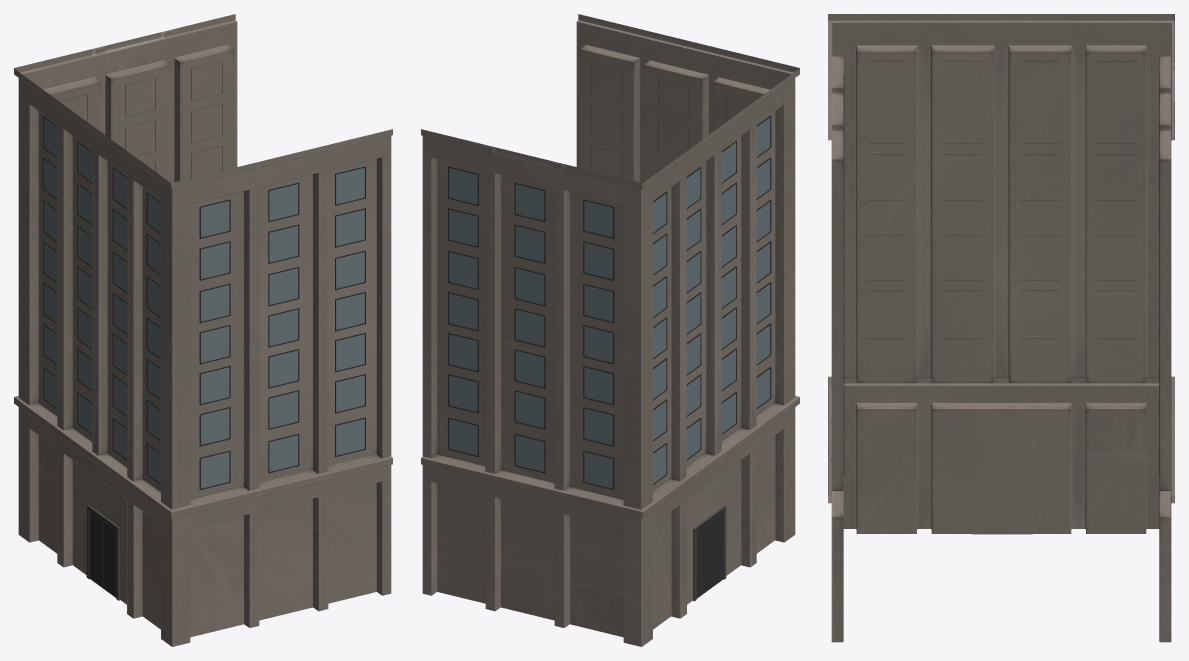
The model's file is paulista_predio01.fbx.
The picture shows the model from 3 angles, left to right: view 1: azimuth 30°, elevation 25°; view 2: azimuth 150°, elevation 25°; view 3: azimuth 270°, elevation 25°; orthographic projection. The views are drawn at different scales.
Parts seen in each view (by area): view 1: Paulista_Predio01; view 2: Paulista_Predio01; view 3: Paulista_Predio01.
Part boxes in pixels (x1=…): Paulista_Predio01: x1=14, y1=14, x2=392, y2=646; Paulista_Predio01: x1=421, y1=14, x2=799, y2=646; Paulista_Predio01: x1=828, y1=14, x2=1174, y2=642.
Bounding box in the file's own units: 749 × 1503 × 919.
